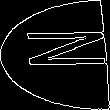N_E: (5, 34, 105, 76)
